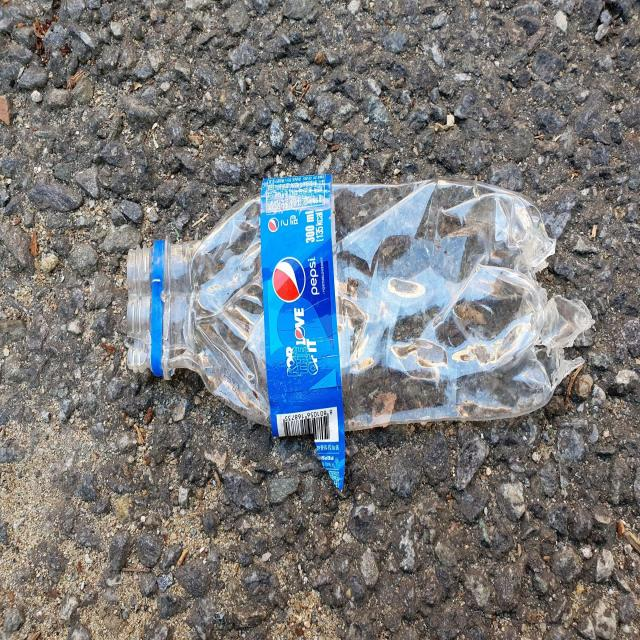plastic: (126, 174, 595, 489)
